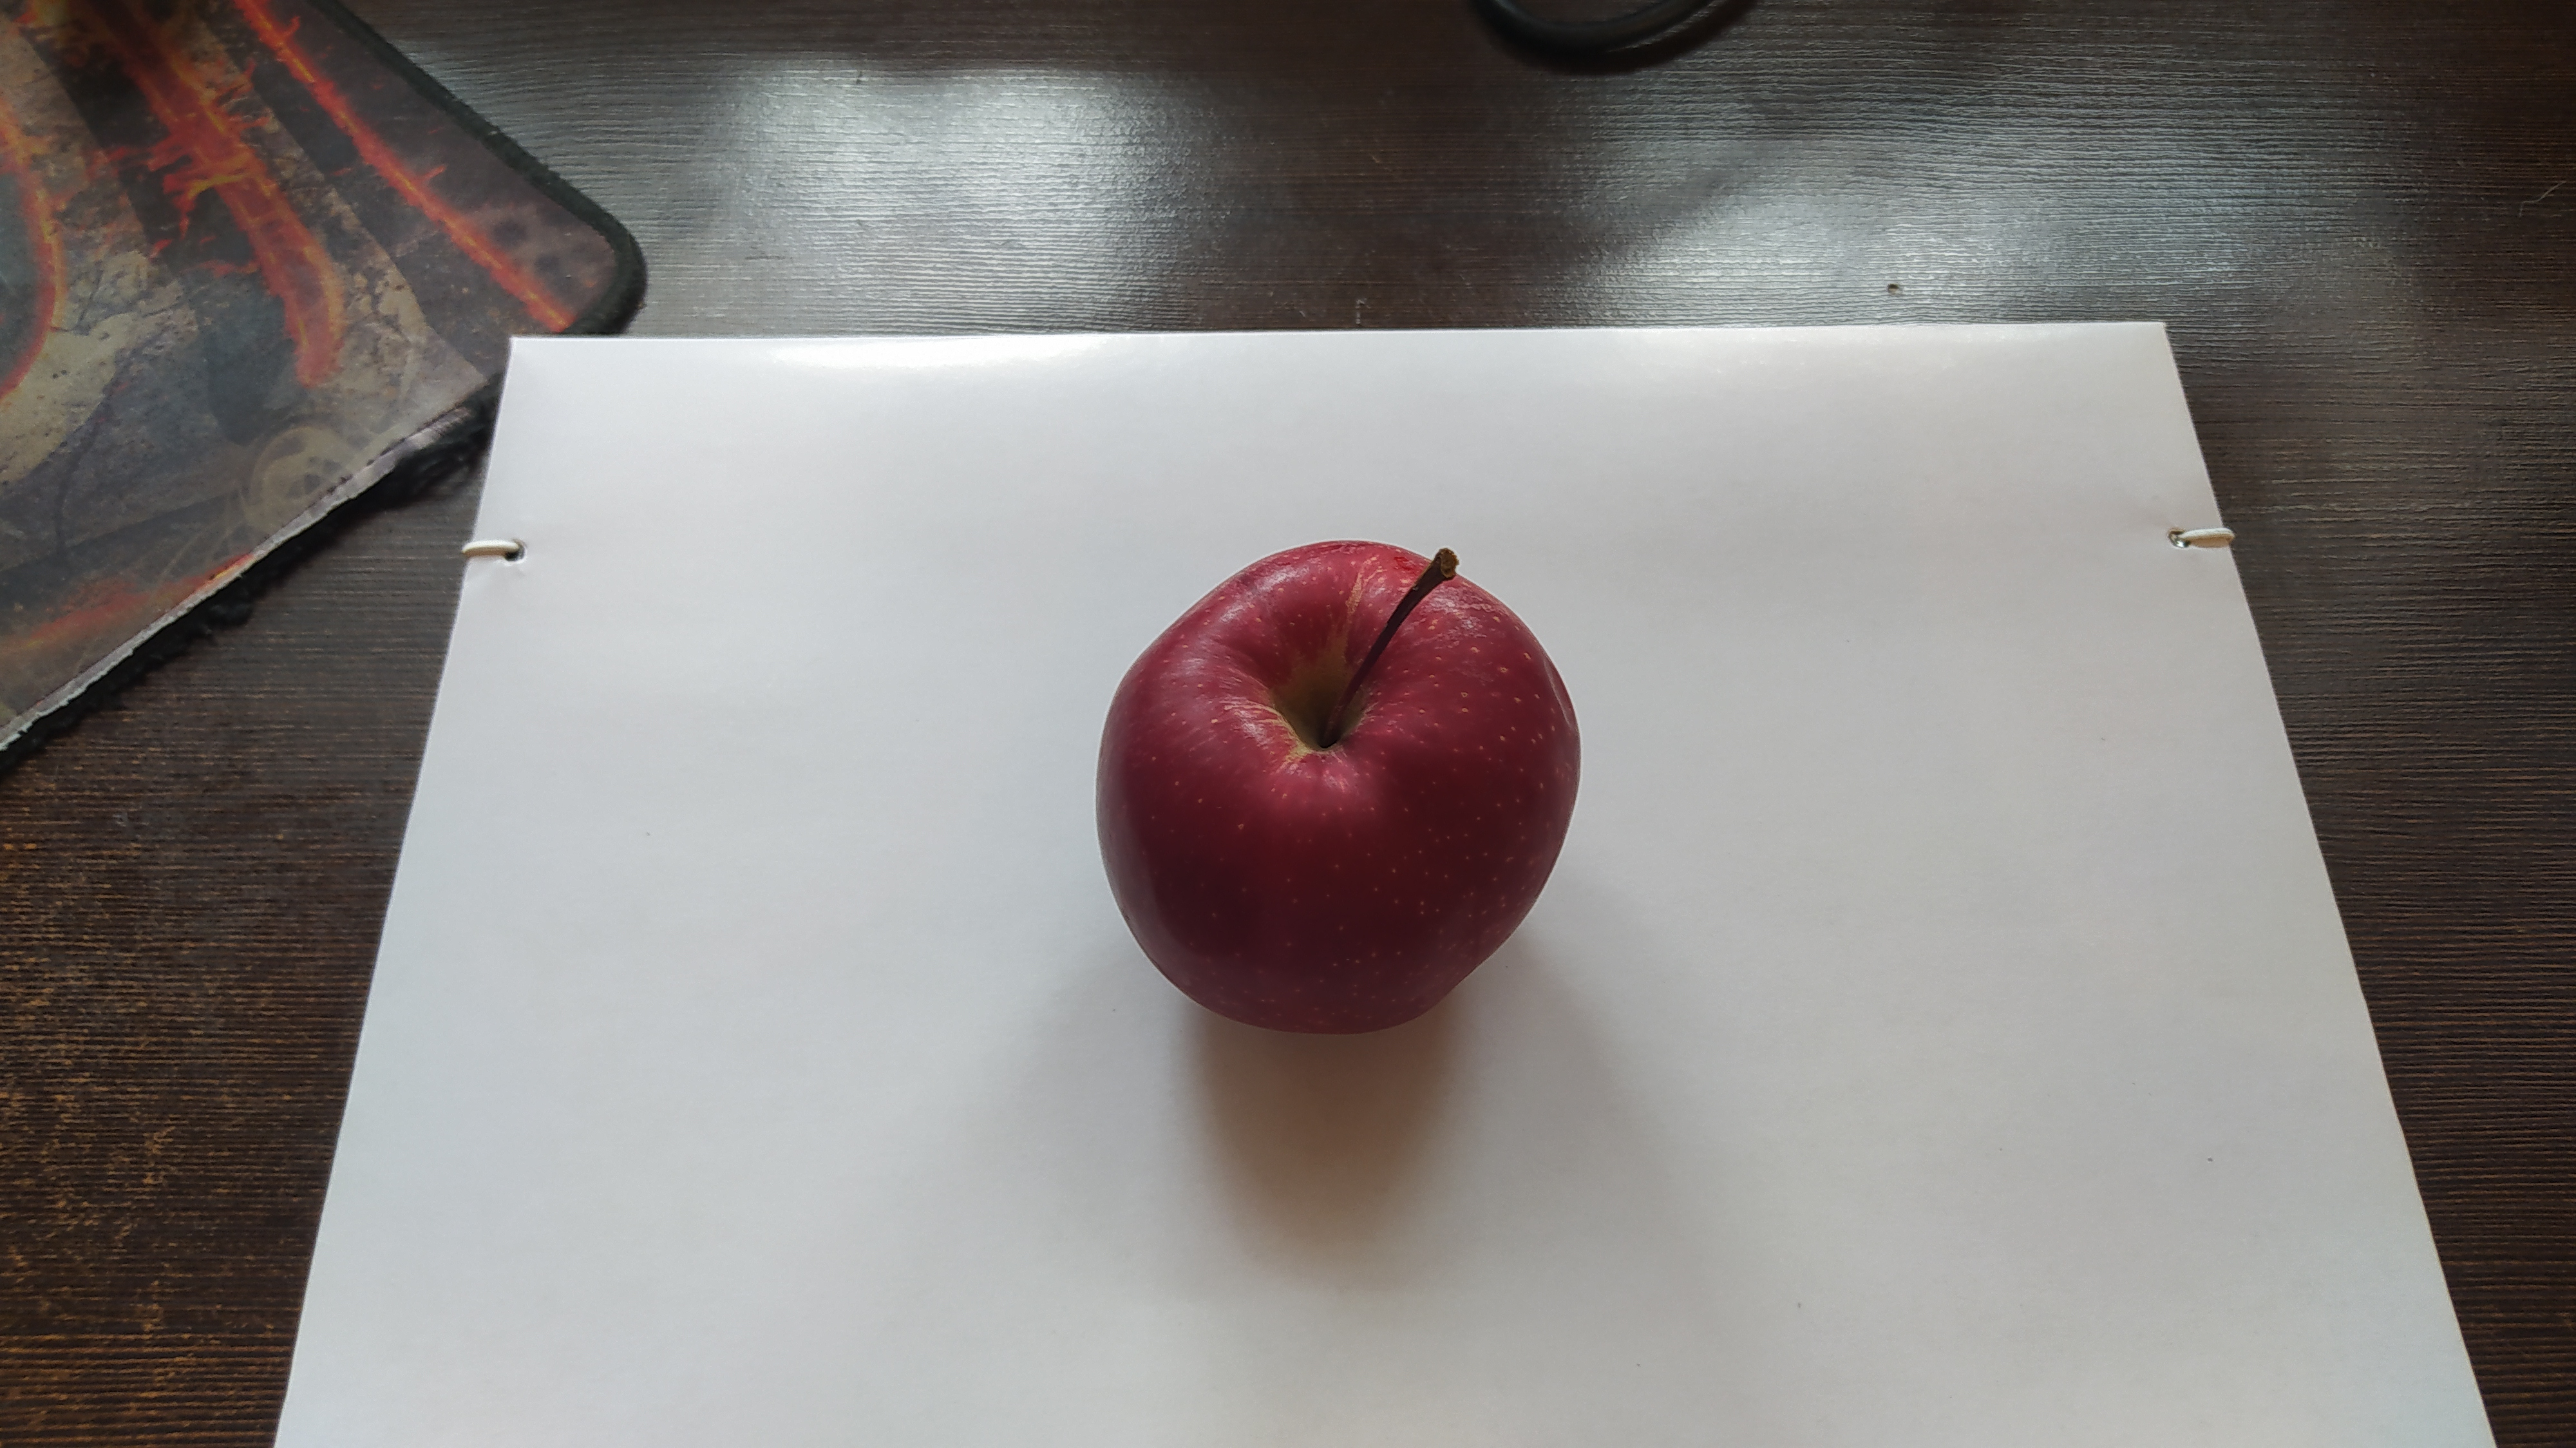apple: (1090, 535, 1587, 1039)
